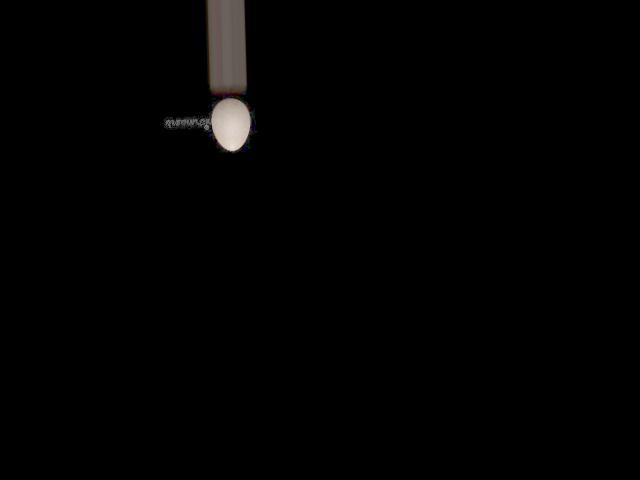egg: (211, 97, 251, 151)
